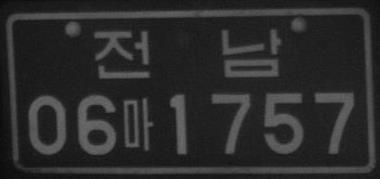0: (27, 95, 67, 155)
1: (162, 92, 198, 154)
5: (262, 92, 304, 155)
6: (76, 93, 117, 156)
7: (313, 90, 355, 154), (209, 92, 251, 155)
마: (122, 97, 153, 151)
전남_D: (95, 28, 282, 78)
